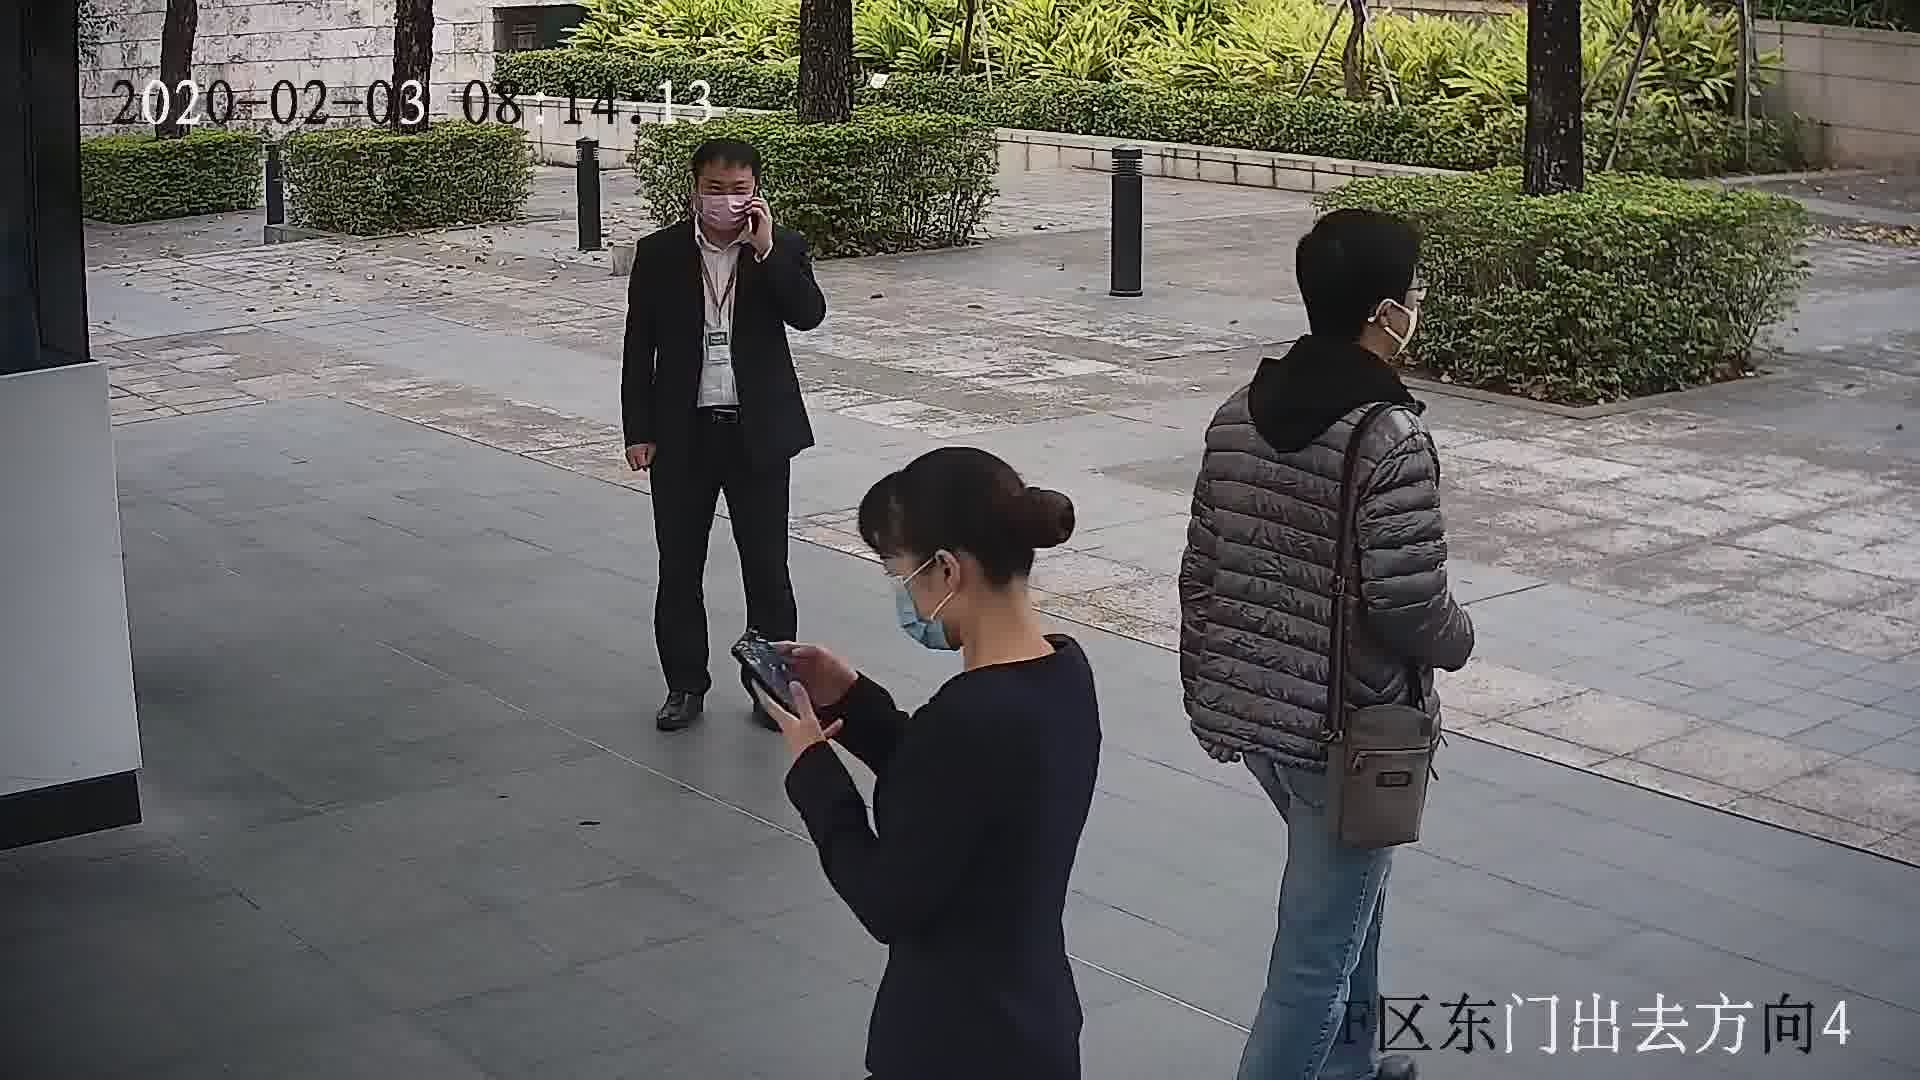face: (870, 535, 970, 654), (686, 161, 765, 240)
mask: (889, 573, 949, 650), (692, 190, 756, 237)
person: (869, 436, 1107, 762), (1200, 215, 1446, 480), (634, 137, 807, 284)
